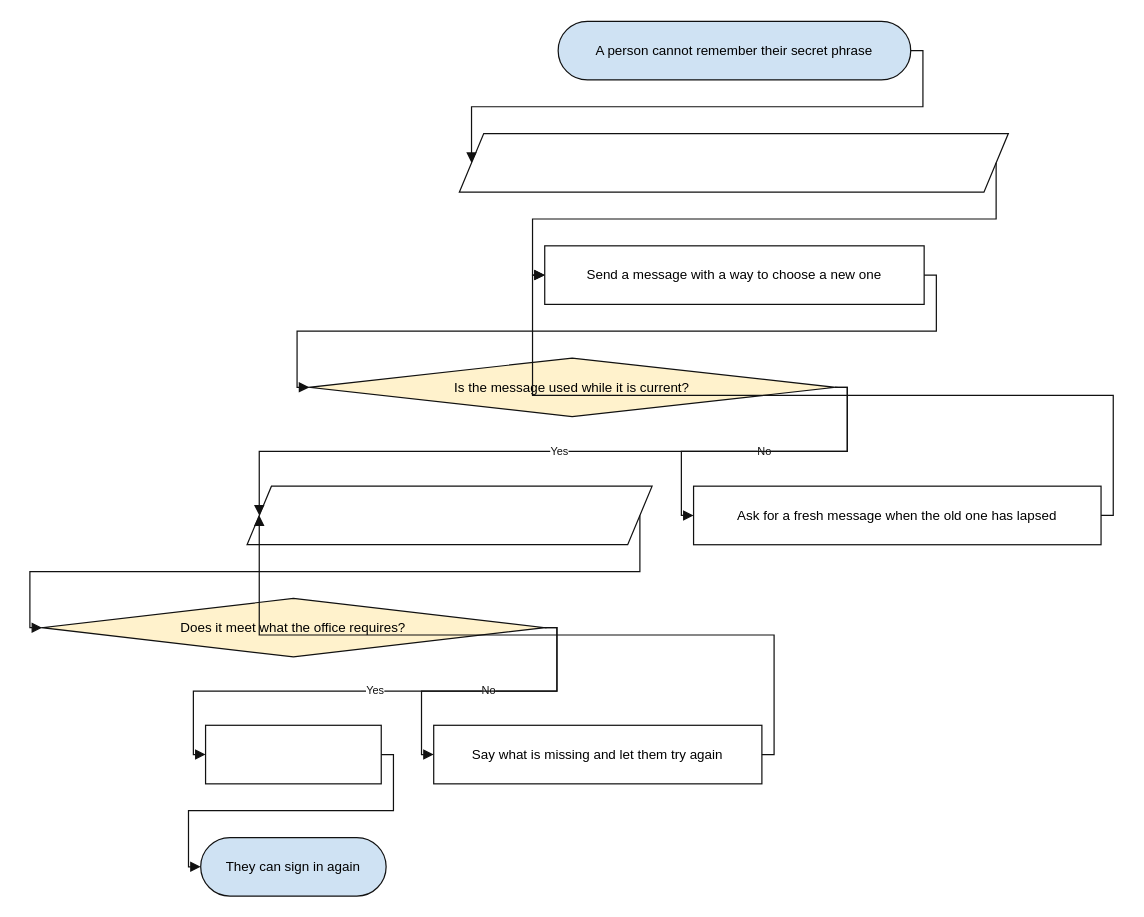
Image size: 1144x917. Some labels were removed from this diagram. Each missing label, with the centre of its shape:
"Choose a new secret phrase" belongs at point (449, 515).
"Give the account name they sign in with" belongs at point (733, 162).
"Keep the new phrase" belongs at point (292, 754).
